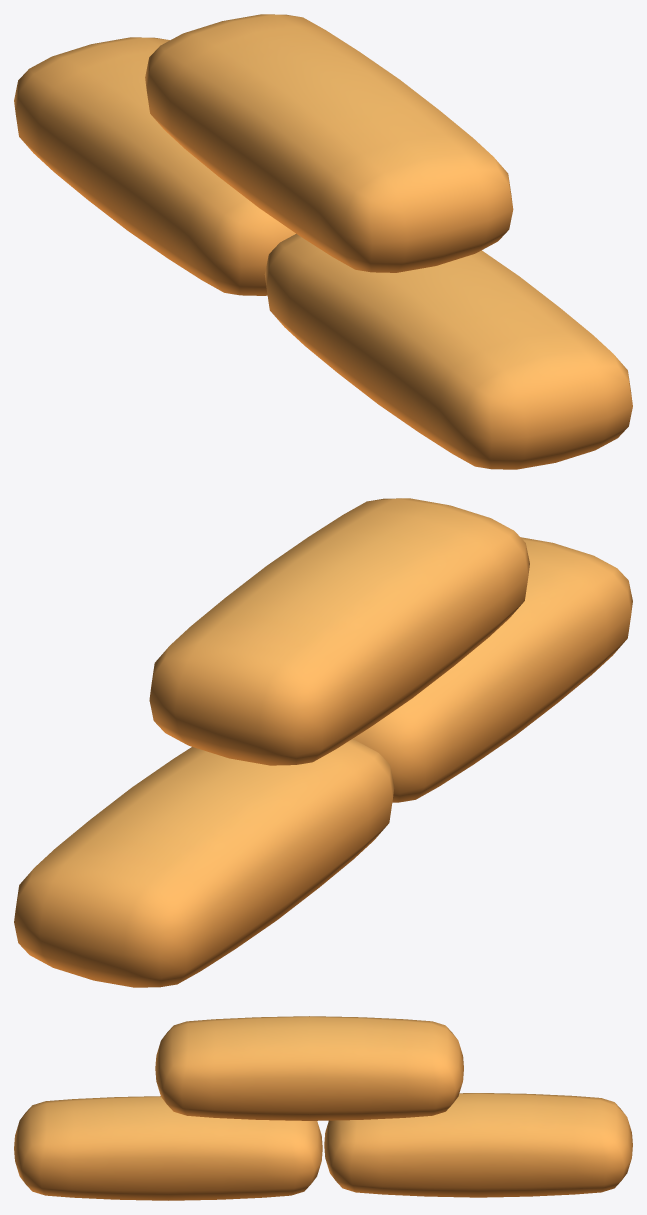
File: SandWall03.fbx
3 renders of one model, top to bottom at view 1: azimuth 30°, elevation 25°; view 2: azimuth 150°, elevation 25°; view 3: azimuth 270°, elevation 25°, orthographic. The views are drawn at different scales.
Visible parts, largest first — view 1: Sand Wall03; view 2: Sand Wall03; view 3: Sand Wall03.
Boxes of the visible parts, bbox=[...] form: Sand Wall03: bbox=[14, 14, 632, 469]; Sand Wall03: bbox=[14, 498, 632, 987]; Sand Wall03: bbox=[14, 1016, 632, 1200].
Size of the model in its own units: 0.4112 by 1.91 by 0.5411.
